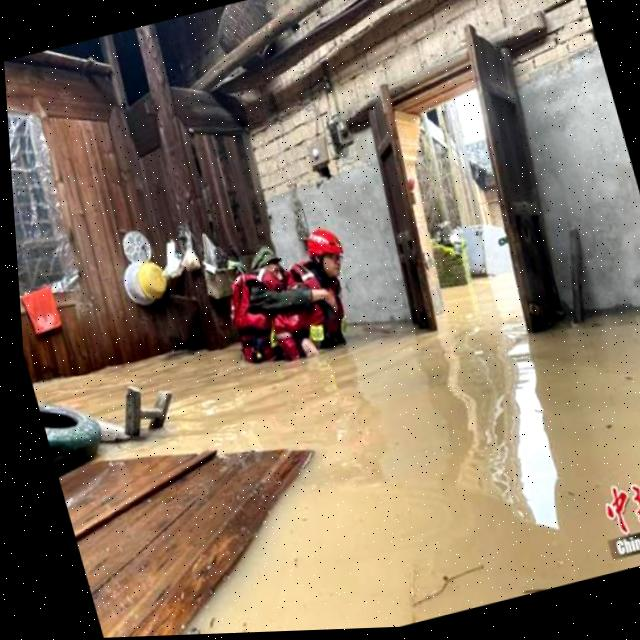civilian: (202, 230, 310, 377)
rescuer: (252, 200, 389, 378)
